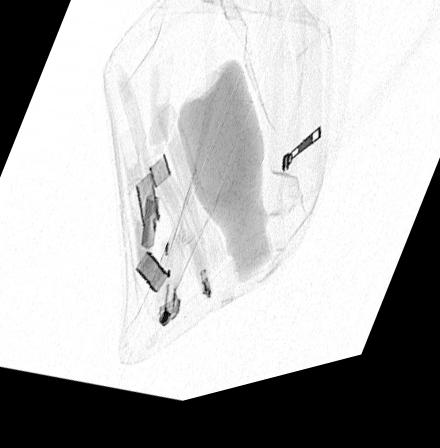Lighter: (155, 245, 182, 338)
